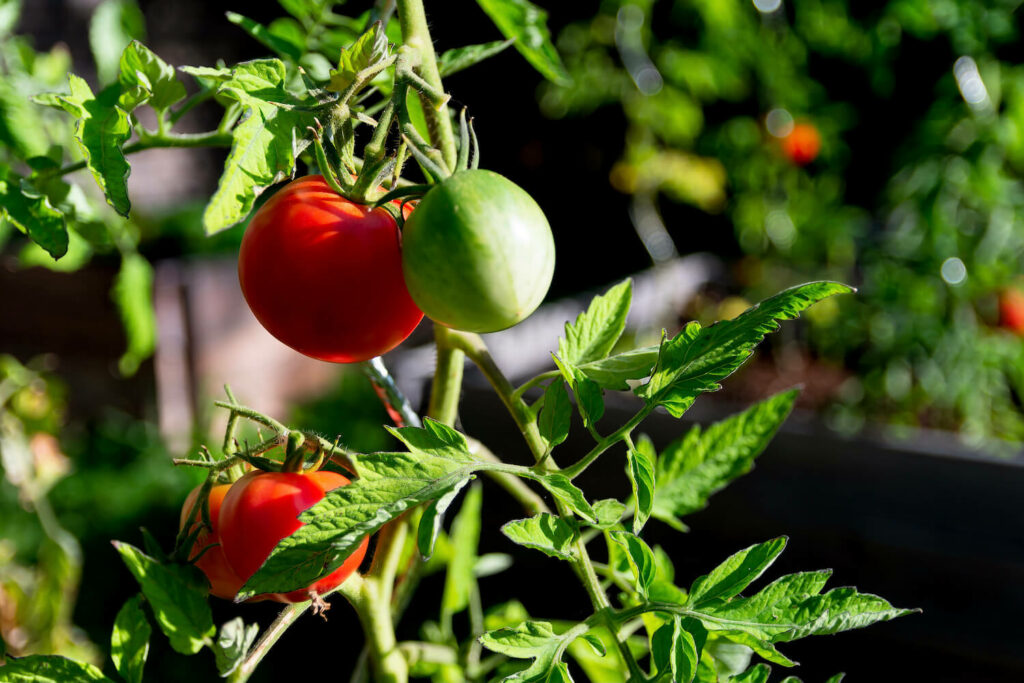tomato: (267, 148, 434, 385)
